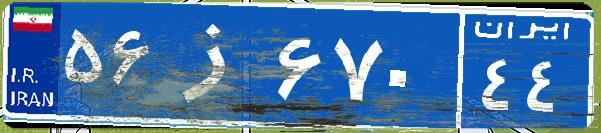0: (385, 28, 445, 110)
4: (475, 38, 525, 113), (525, 38, 570, 115)
5: (57, 26, 110, 107)
6: (273, 28, 330, 110), (110, 28, 158, 105)
7: (330, 28, 385, 110)
ز: (158, 15, 273, 115)
